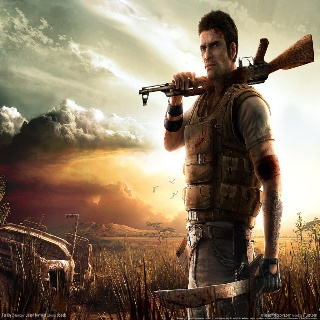rifle: (139, 34, 314, 107)
